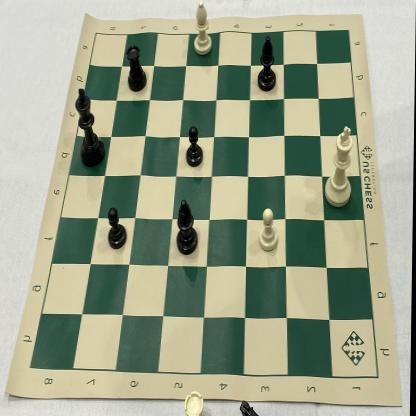black-bishop: (171, 194, 203, 258), (252, 33, 279, 97)
black-king: (73, 82, 108, 174)
black-pawn: (107, 203, 132, 254), (181, 122, 207, 170)
black-rook: (122, 42, 150, 94)
white-bishop: (185, 0, 213, 60)
white-king: (320, 115, 357, 214)
white-pawn: (254, 203, 281, 254)
